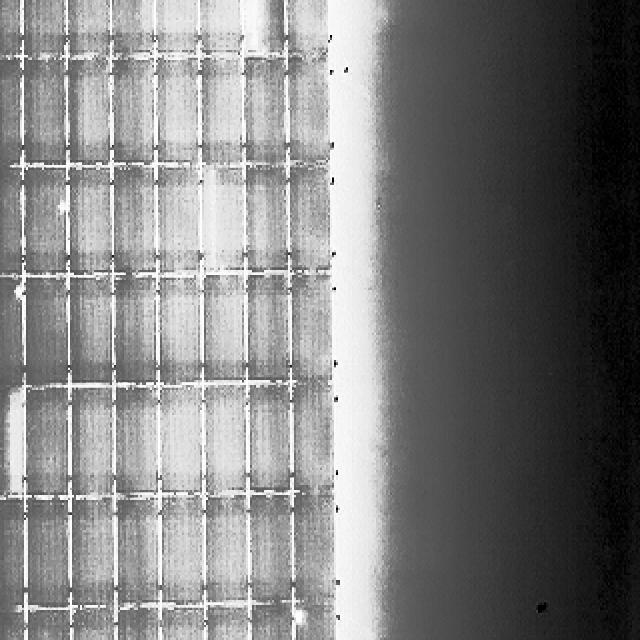Hotspots: (12, 279, 26, 302), (55, 200, 68, 218), (292, 611, 308, 625)
PV-modules: (25, 500, 73, 611), (240, 55, 288, 166), (65, 55, 112, 165), (292, 274, 338, 386), (24, 387, 70, 498), (69, 385, 115, 496), (296, 490, 341, 603), (69, 499, 116, 607), (113, 494, 159, 604), (162, 492, 207, 604), (26, 166, 72, 275), (156, 56, 202, 165), (66, 165, 112, 274), (249, 381, 294, 492), (27, 279, 72, 390), (158, 274, 204, 382), (199, 58, 244, 168), (247, 491, 291, 603), (110, 57, 156, 164), (158, 167, 203, 276), (68, 278, 113, 387), (112, 167, 157, 276), (160, 384, 205, 493), (200, 165, 245, 273), (113, 278, 158, 386), (244, 276, 288, 386), (202, 384, 246, 494), (26, 56, 70, 166), (291, 54, 335, 164), (203, 497, 247, 606), (290, 381, 333, 492), (200, 272, 244, 380), (116, 386, 160, 494), (286, 165, 330, 271), (242, 166, 285, 274), (205, 607, 295, 640), (64, 0, 110, 62), (26, 0, 70, 62), (198, 0, 242, 62), (0, 500, 24, 612), (152, 0, 198, 58), (282, 0, 328, 58), (0, 275, 24, 385), (0, 385, 24, 495), (0, 60, 24, 168), (110, 0, 154, 58), (242, 0, 288, 55), (0, 168, 22, 278), (250, 606, 297, 640), (201, 606, 248, 640), (160, 607, 206, 640), (69, 608, 116, 640), (26, 609, 74, 640), (296, 607, 340, 640), (117, 608, 162, 640), (0, 0, 24, 58), (0, 610, 24, 640)
